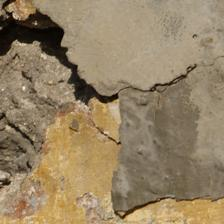Crack: (0, 35, 100, 119), (25, 76, 89, 128), (21, 74, 61, 114)
